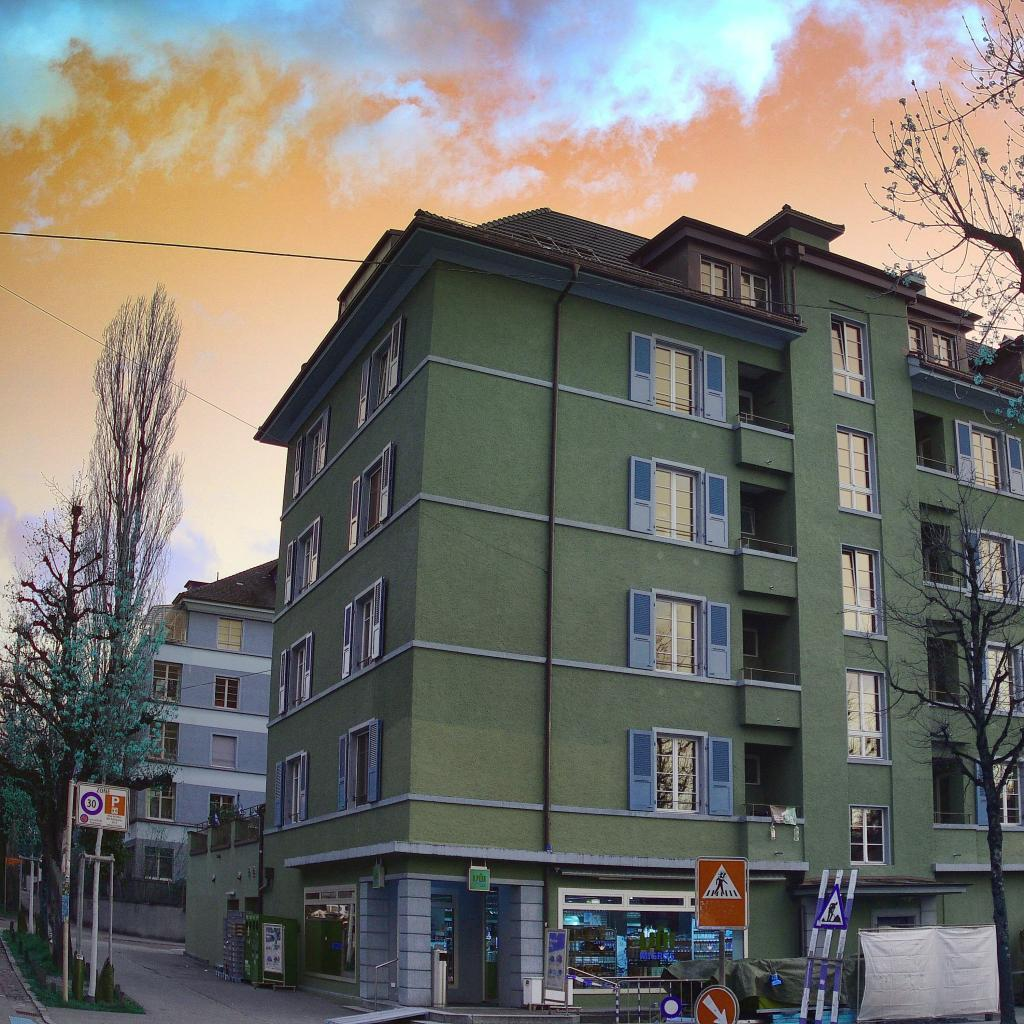balcony-fence: (731, 411, 794, 435), (736, 537, 798, 558), (737, 667, 801, 686), (742, 804, 804, 818), (916, 456, 958, 475), (923, 571, 968, 588), (929, 691, 972, 706), (933, 812, 974, 824)
fence: (18, 804, 263, 965)
non-building-infrastructure: (614, 925, 1000, 1024), (214, 910, 299, 990), (542, 928, 569, 1016)
shop: (301, 872, 750, 1008)
street: (20, 202, 1024, 994), (0, 916, 402, 1024), (370, 1014, 615, 1024), (876, 1013, 1001, 1024), (1016, 995, 1024, 1024)
traffic-infrastructure: (63, 779, 131, 1003), (799, 867, 859, 1024), (694, 856, 750, 1024), (4, 855, 25, 916), (660, 996, 683, 1018)
vegetation: (0, 281, 190, 1015), (837, 457, 1024, 1024), (862, 0, 1024, 451)
window: (845, 666, 891, 760), (841, 544, 886, 637), (656, 733, 702, 814), (831, 312, 872, 399), (655, 596, 699, 676), (654, 339, 699, 416), (837, 427, 875, 512), (655, 464, 696, 542), (850, 806, 891, 865), (987, 645, 1020, 713), (990, 760, 1023, 825), (979, 536, 1011, 598), (971, 428, 1001, 490), (741, 266, 773, 312), (701, 254, 732, 300), (373, 339, 392, 411), (152, 660, 182, 702), (354, 730, 370, 807), (365, 465, 382, 537), (360, 591, 375, 670), (149, 721, 179, 760), (304, 421, 322, 486), (144, 846, 174, 881), (147, 784, 176, 820), (933, 330, 956, 368), (212, 734, 237, 768), (215, 674, 239, 709), (218, 618, 243, 651), (295, 641, 307, 709), (289, 757, 301, 824), (209, 793, 236, 821), (936, 774, 951, 820), (908, 321, 925, 359), (302, 535, 313, 593), (738, 389, 754, 421), (926, 546, 940, 582), (745, 754, 761, 785), (743, 627, 758, 658), (927, 654, 937, 700), (740, 506, 755, 535), (921, 436, 932, 467)
